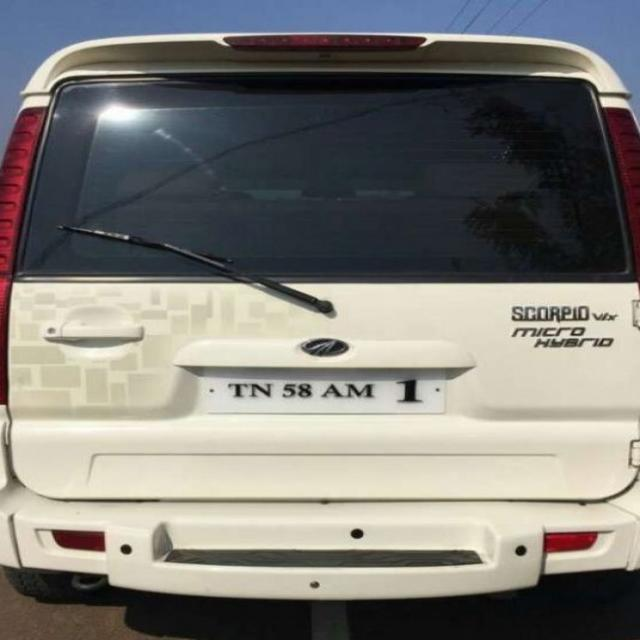license-plate: (202, 364, 443, 412)
